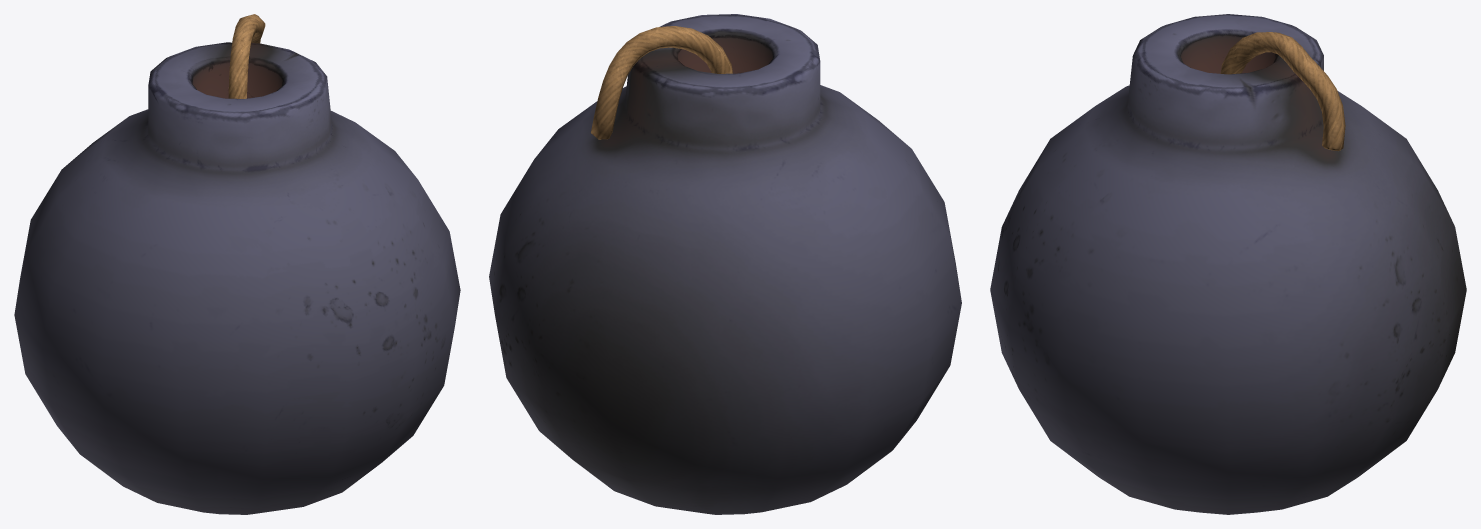
File: Bomb.fbx
3 renders of one model, left to right at view 1: azimuth 30°, elevation 25°; view 2: azimuth 150°, elevation 25°; view 3: azimuth 270°, elevation 25°, orthographic. The views are drawn at different scales.
Parts seen in each view (by area): view 1: Bomb1; view 2: Bomb1; view 3: Bomb1.
Part boxes in pixels (left/top/right/bottom): Bomb1: left=14, top=14, right=460, bottom=514; Bomb1: left=489, top=14, right=961, bottom=514; Bomb1: left=990, top=14, right=1466, bottom=514.
Size of the model in its own units: 26.53 by 29.35 by 26.53.
Materials: 1 (1 with a texture image).
